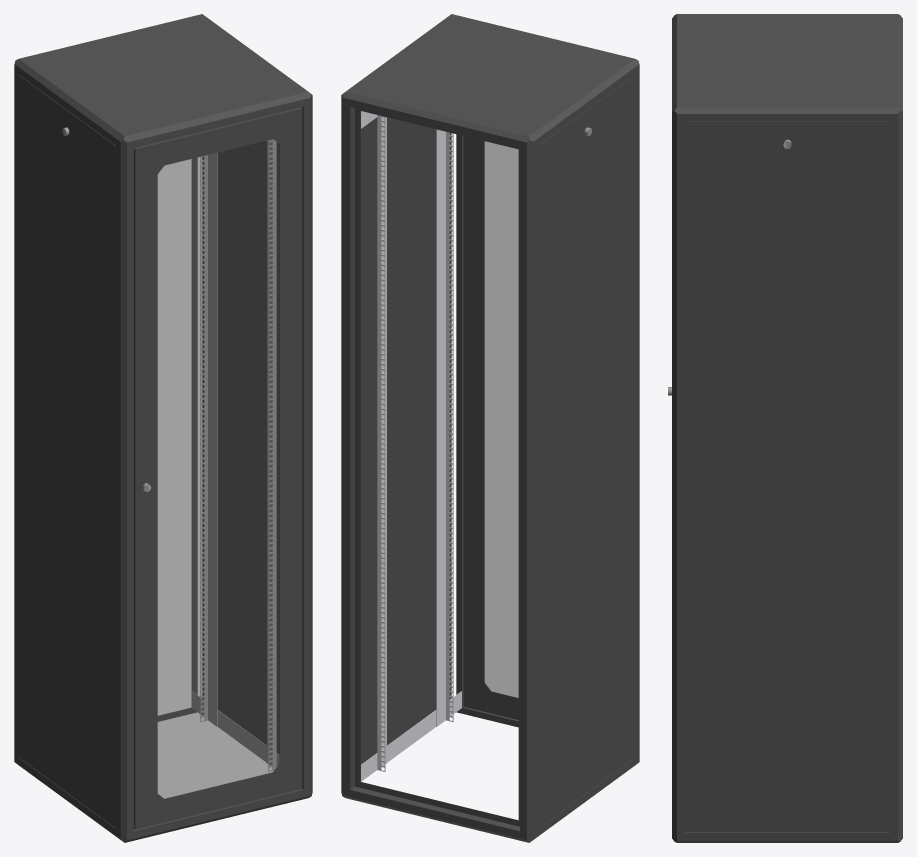
The model's file is Rack.glb.
3 views of the same model, side by side, from view 1: azimuth 30°, elevation 25°; view 2: azimuth 150°, elevation 25°; view 3: azimuth 270°, elevation 25° (orthographic). The views are drawn at different scales.
Bounding box in the file's own units: 0.6209 × 2.11 × 0.6104.
6 materials, 2 textured.
